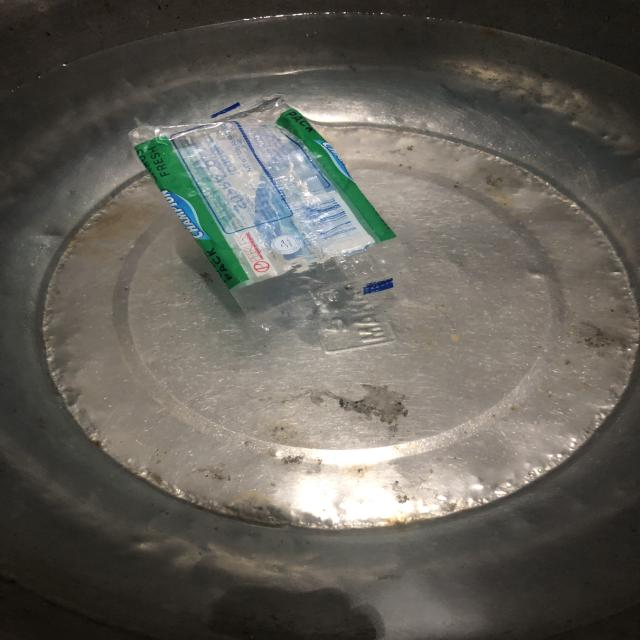Plastic Wrapper: (110, 62, 436, 348)
